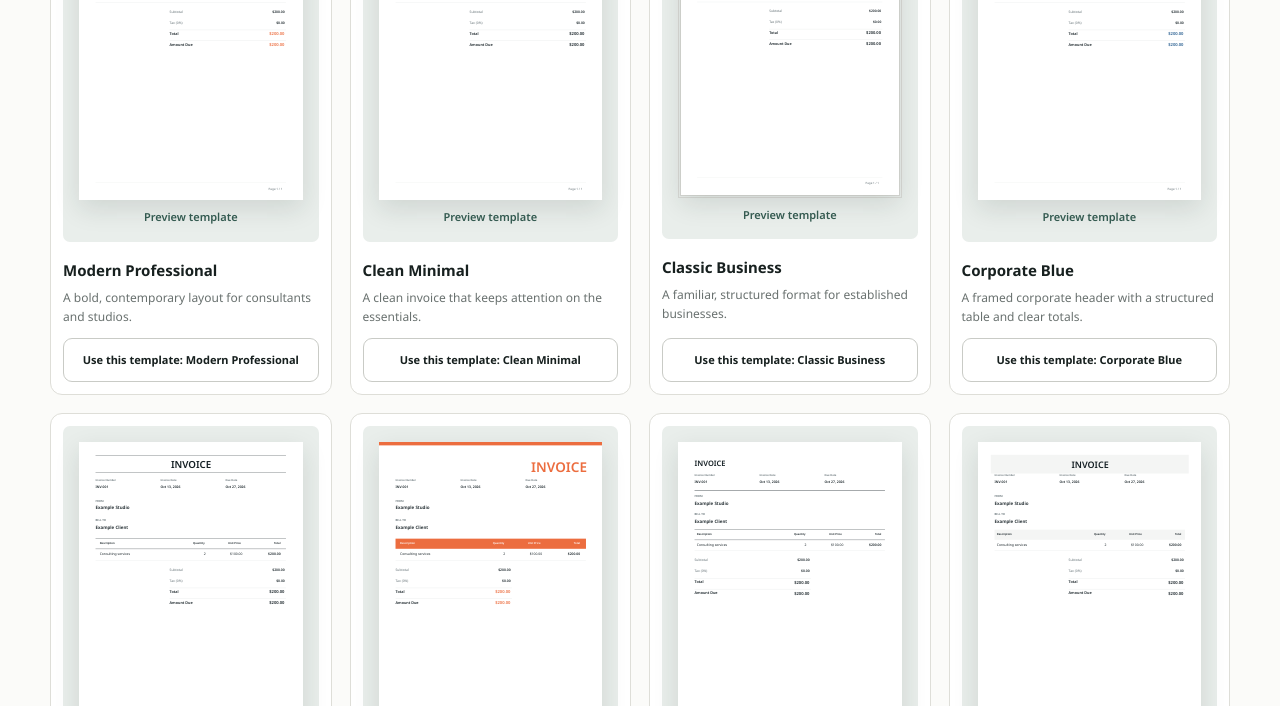
visual invoice workflow › selects modern before asking for personal details
(page scrolled)
expect the button "Business or full name" is not shown: met
Click the button "Use this template: Modern Professional" at (191, 360), box [63,338,318,382]
(page scrolled)
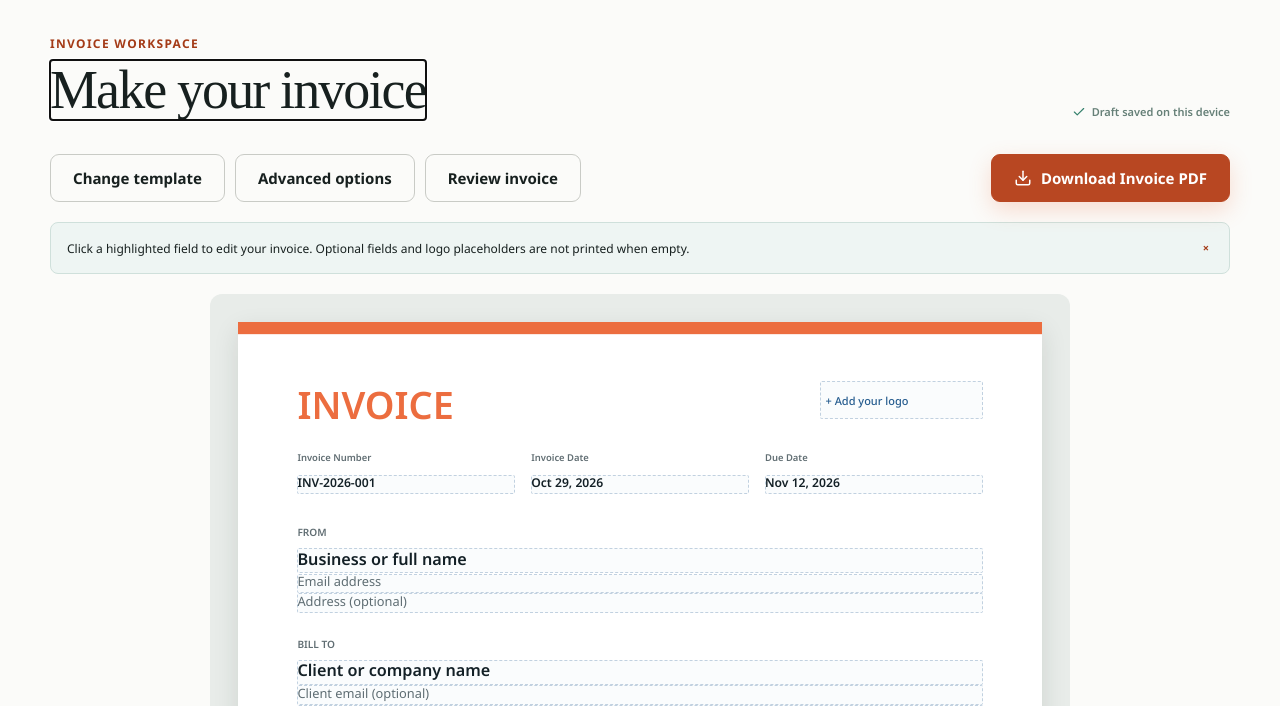
expect the button named "Business or full name" is shown: met, box [297,548,982,574]
